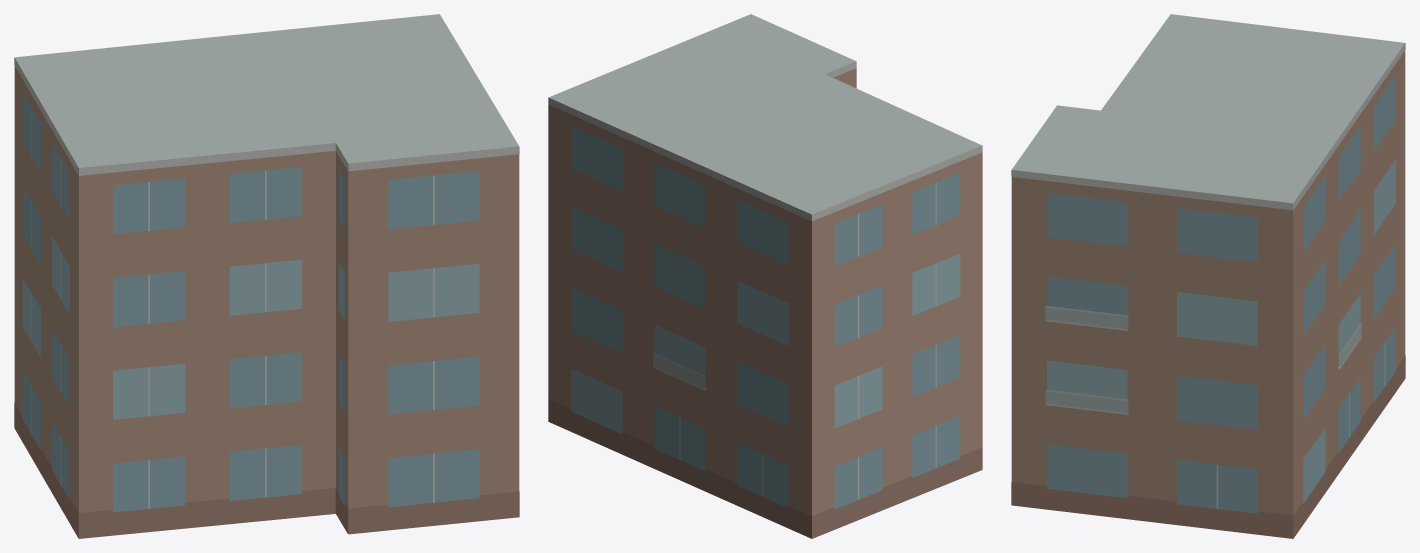
The model's file is survey-upis-32968628.glb.
3 renders of one model, left to right at view 1: azimuth 30°, elevation 25°; view 2: azimuth 150°, elevation 25°; view 3: azimuth 270°, elevation 25°, orthographic. The views are drawn at different scales.
Visible parts, largest first — view 1: survey-upis-32968628.tmp; view 2: survey-upis-32968628.tmp; view 3: survey-upis-32968628.tmp.
Part boxes in pixels (left/top/right/bottom): survey-upis-32968628.tmp: left=14, top=14, right=519, bottom=538; survey-upis-32968628.tmp: left=548, top=14, right=982, bottom=538; survey-upis-32968628.tmp: left=1011, top=14, right=1405, bottom=538.
Size of the model in its own units: 14.17 by 11.7 by 12.46.
